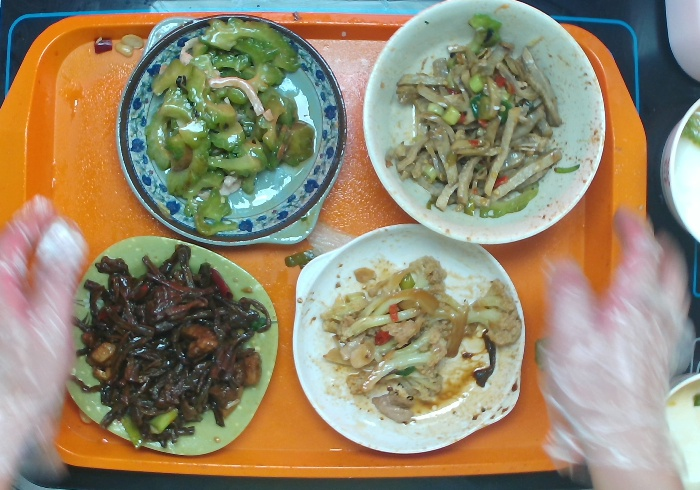NLDX-Bai_Se_Shuang_Er_Die: (288, 220, 529, 457)
NLDX-Bai_Se_Yuan_Wan: (360, 1, 609, 249)
NLDX-Lv_Hua_Fang_Die: (56, 232, 281, 462)
NLDX-Qing_Hua_Shuang_Er_Die: (113, 8, 350, 252)
